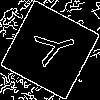Y: (25, 25, 79, 70)
